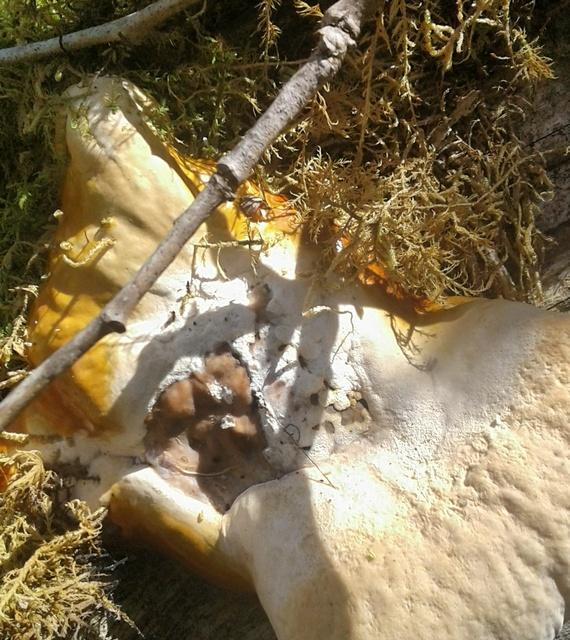poisonous_mushroom: (5, 72, 568, 638)
